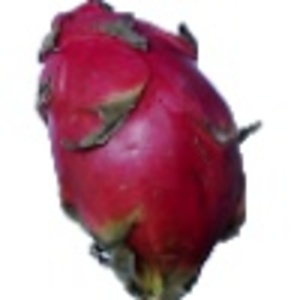pitaia: (37, 1, 262, 300)
